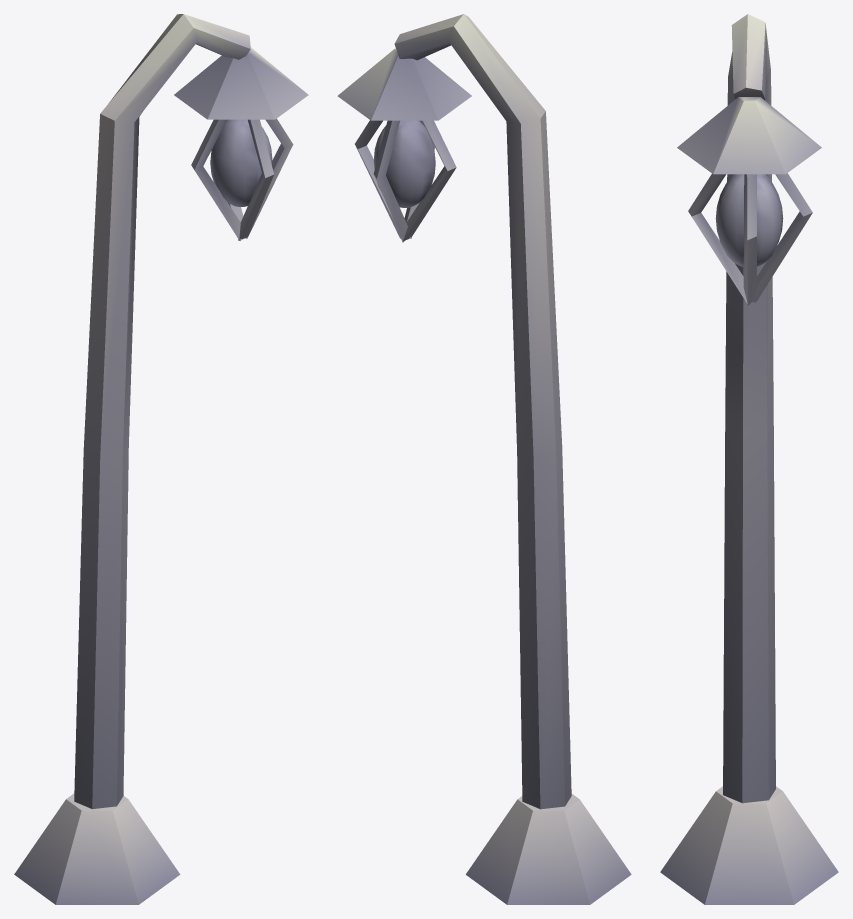
Rendered from lantern.glb.
3 views of the same model, side by side, from view 1: azimuth 30°, elevation 25°; view 2: azimuth 150°, elevation 25°; view 3: azimuth 270°, elevation 25° (orthographic). The views are drawn at different scales.
Parts seen in each view (by area): view 1: lantern; view 2: lantern; view 3: lantern.
Part boxes in pixels (bbox=[...]): lantern: bbox=[14, 14, 308, 904]; lantern: bbox=[337, 14, 631, 904]; lantern: bbox=[660, 14, 838, 904].
Size of the model in its own units: 0.5721 by 1.78 by 0.32.
